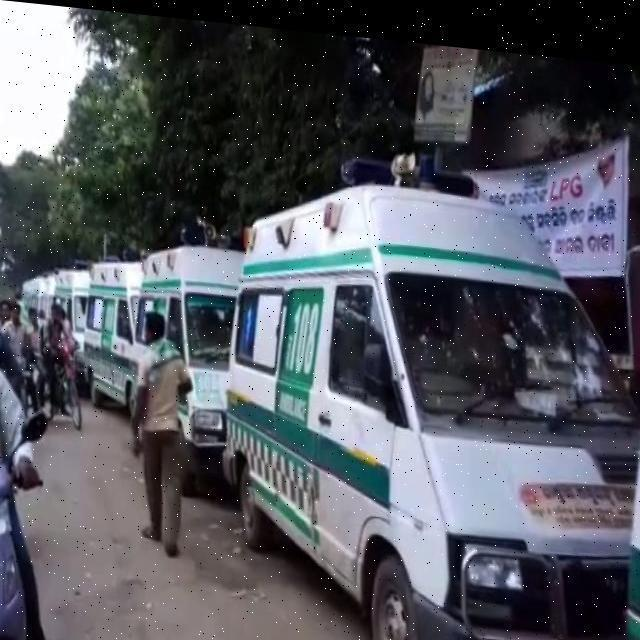Ambulance: (0, 104, 639, 640), (5, 368, 395, 640), (127, 227, 246, 496), (126, 304, 197, 558)
